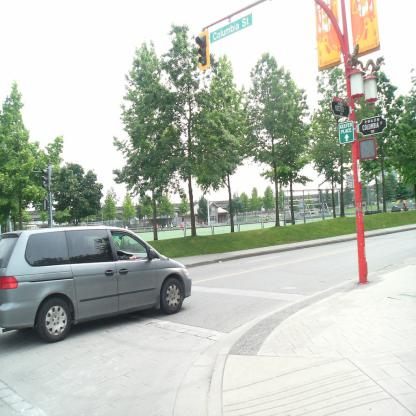Car: (4, 226, 183, 344)
